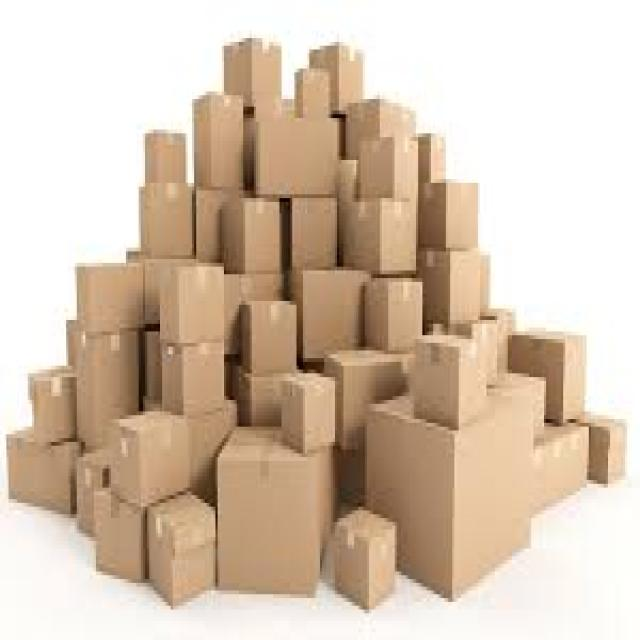box: (367, 397, 533, 598), (218, 427, 330, 594), (325, 351, 407, 449), (109, 412, 189, 506), (77, 332, 140, 449), (148, 496, 215, 605), (508, 332, 586, 422), (412, 336, 486, 430), (293, 271, 369, 361), (254, 119, 339, 198), (7, 431, 81, 514), (335, 511, 396, 609), (344, 199, 418, 274), (184, 400, 236, 506), (532, 423, 588, 514), (192, 92, 243, 190), (94, 488, 147, 582), (419, 248, 482, 327), (160, 263, 223, 342), (77, 263, 145, 335), (224, 275, 283, 354), (244, 100, 294, 190), (222, 199, 281, 274), (163, 343, 223, 415), (139, 183, 194, 259), (282, 374, 334, 453), (346, 100, 415, 159), (365, 279, 422, 350), (310, 42, 364, 114), (242, 301, 296, 373), (419, 180, 477, 247), (224, 39, 281, 106), (28, 366, 76, 445), (284, 199, 337, 270), (359, 138, 418, 201), (141, 260, 194, 327), (491, 374, 546, 438), (579, 412, 627, 483), (451, 320, 499, 384), (237, 366, 285, 426), (77, 450, 110, 537), (197, 191, 236, 262), (483, 309, 516, 373), (338, 160, 358, 262), (146, 130, 185, 182), (335, 446, 364, 506), (295, 69, 330, 118), (416, 134, 445, 186), (143, 328, 162, 403), (480, 252, 490, 316), (224, 355, 238, 399), (67, 320, 78, 369), (333, 115, 345, 159), (141, 397, 162, 411), (126, 248, 142, 262)
